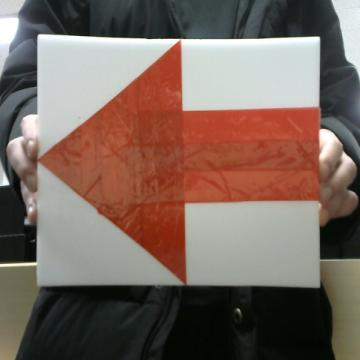red_left: (39, 41, 318, 280)
